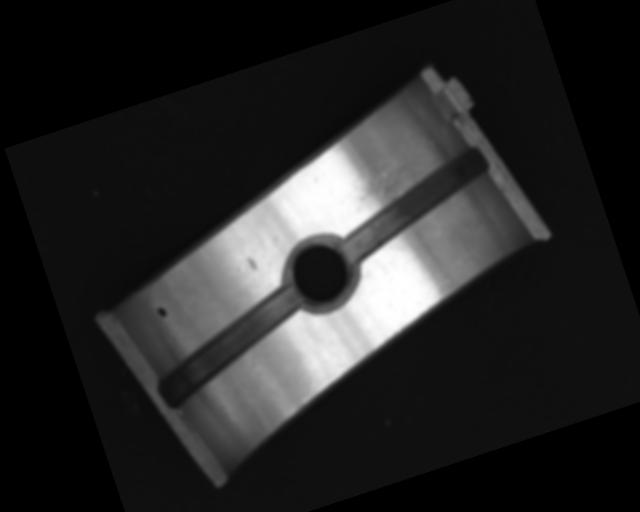blot: (154, 303, 169, 320)
bruise: (247, 256, 258, 272)
gap: (139, 283, 320, 409), (324, 143, 505, 265)
hole: (275, 230, 364, 318)
scratch: (337, 143, 437, 216)
